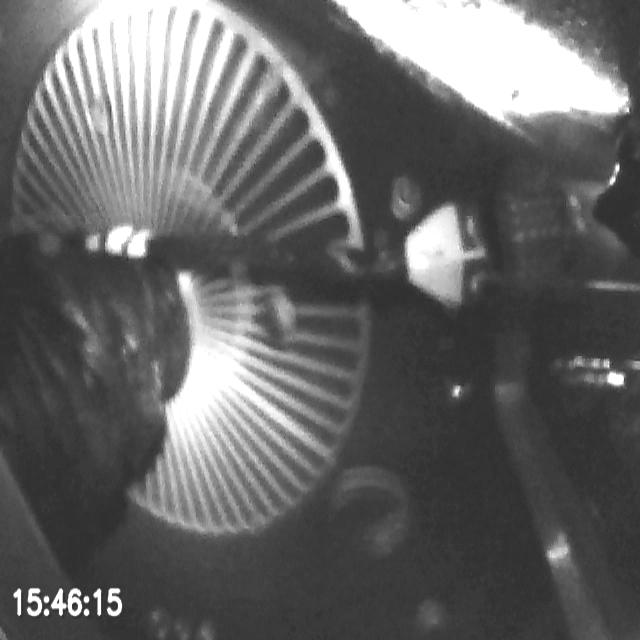head: (405, 183, 591, 308)
white-dots: (84, 222, 153, 260)
